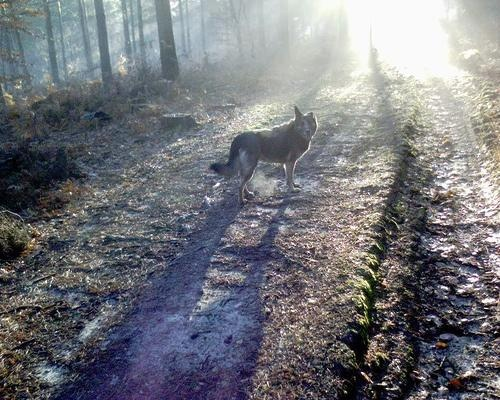dog: (209, 106, 318, 207)
